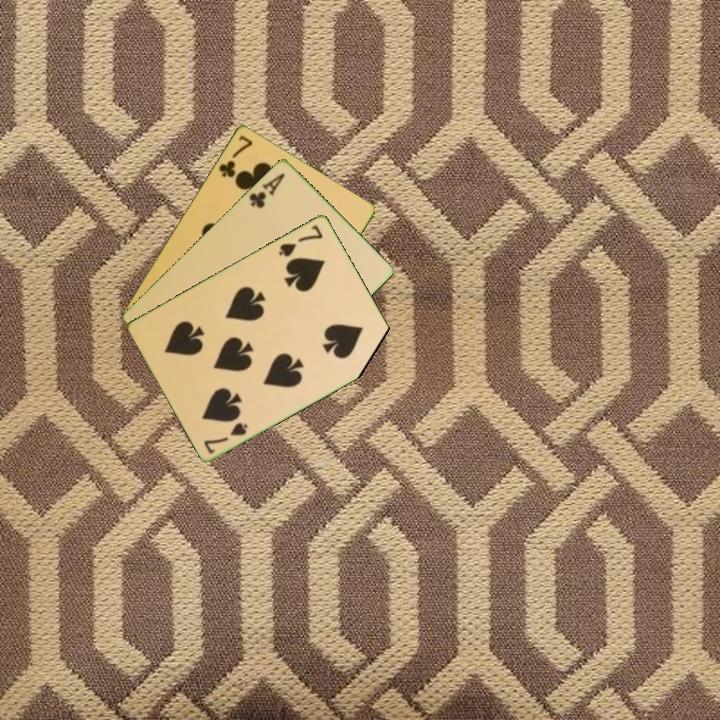7c: (215, 131, 255, 180)
7s: (275, 221, 326, 259), (200, 418, 251, 456)
Ac: (245, 169, 288, 211)
